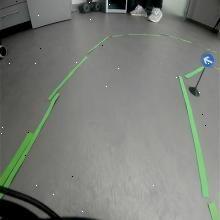left: (200, 51, 215, 68)
